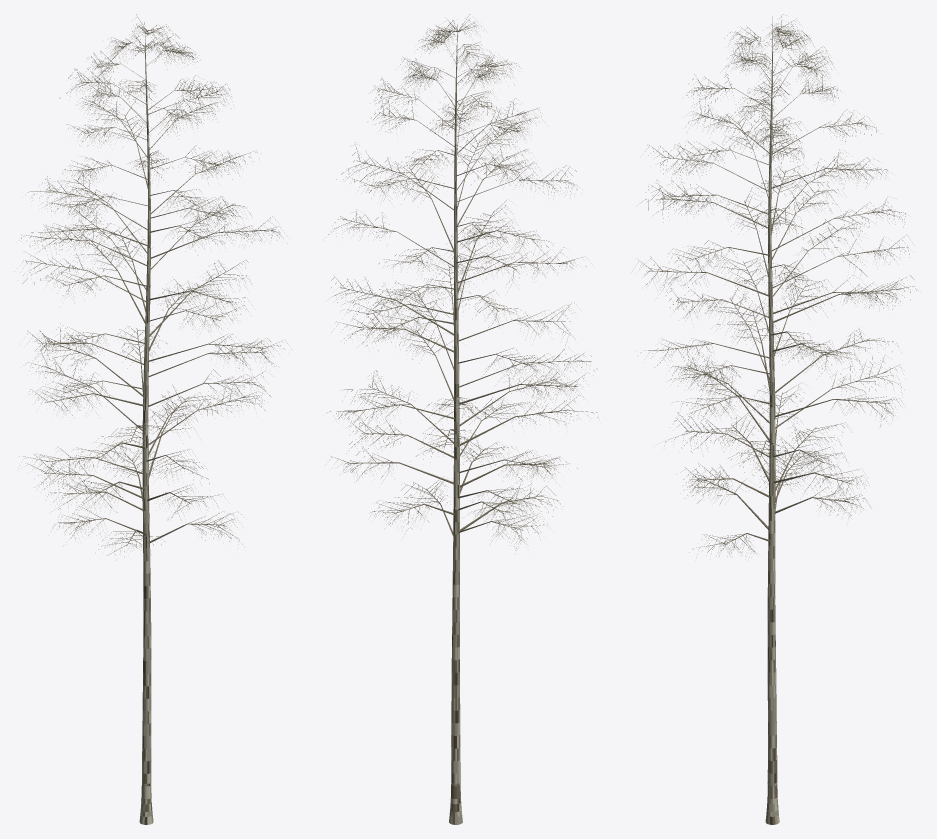
The model's file is wood.dae.
3 renders of one model, left to right at view 1: azimuth 30°, elevation 25°; view 2: azimuth 150°, elevation 25°; view 3: azimuth 270°, elevation 25°, orthographic.
Parts seen in each view (by area): view 1: tree_node; view 2: tree_node; view 3: tree_node.
Boxes of the visible parts, left/top/right/bottom form: tree_node: left=14, top=14, right=287, bottom=824; tree_node: left=327, top=14, right=597, bottom=824; tree_node: left=637, top=14, right=916, bottom=824.
Size of the model in its own units: 8.32 by 8.56 by 26.
